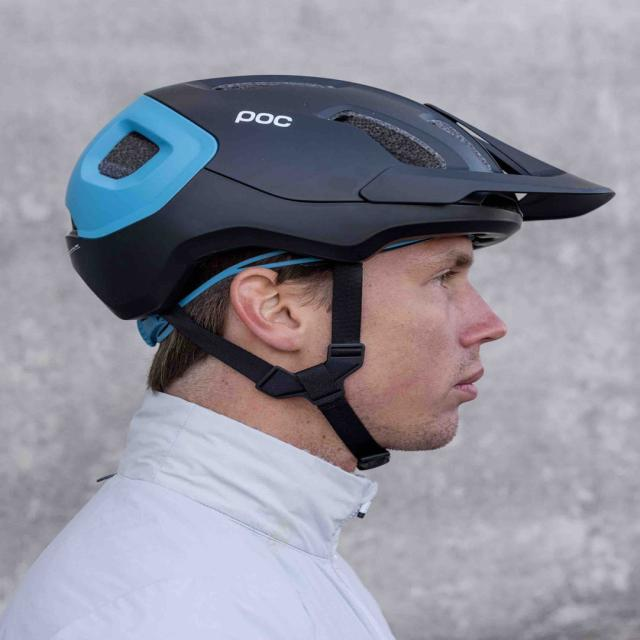illegal_helmet: (57, 64, 627, 480)
